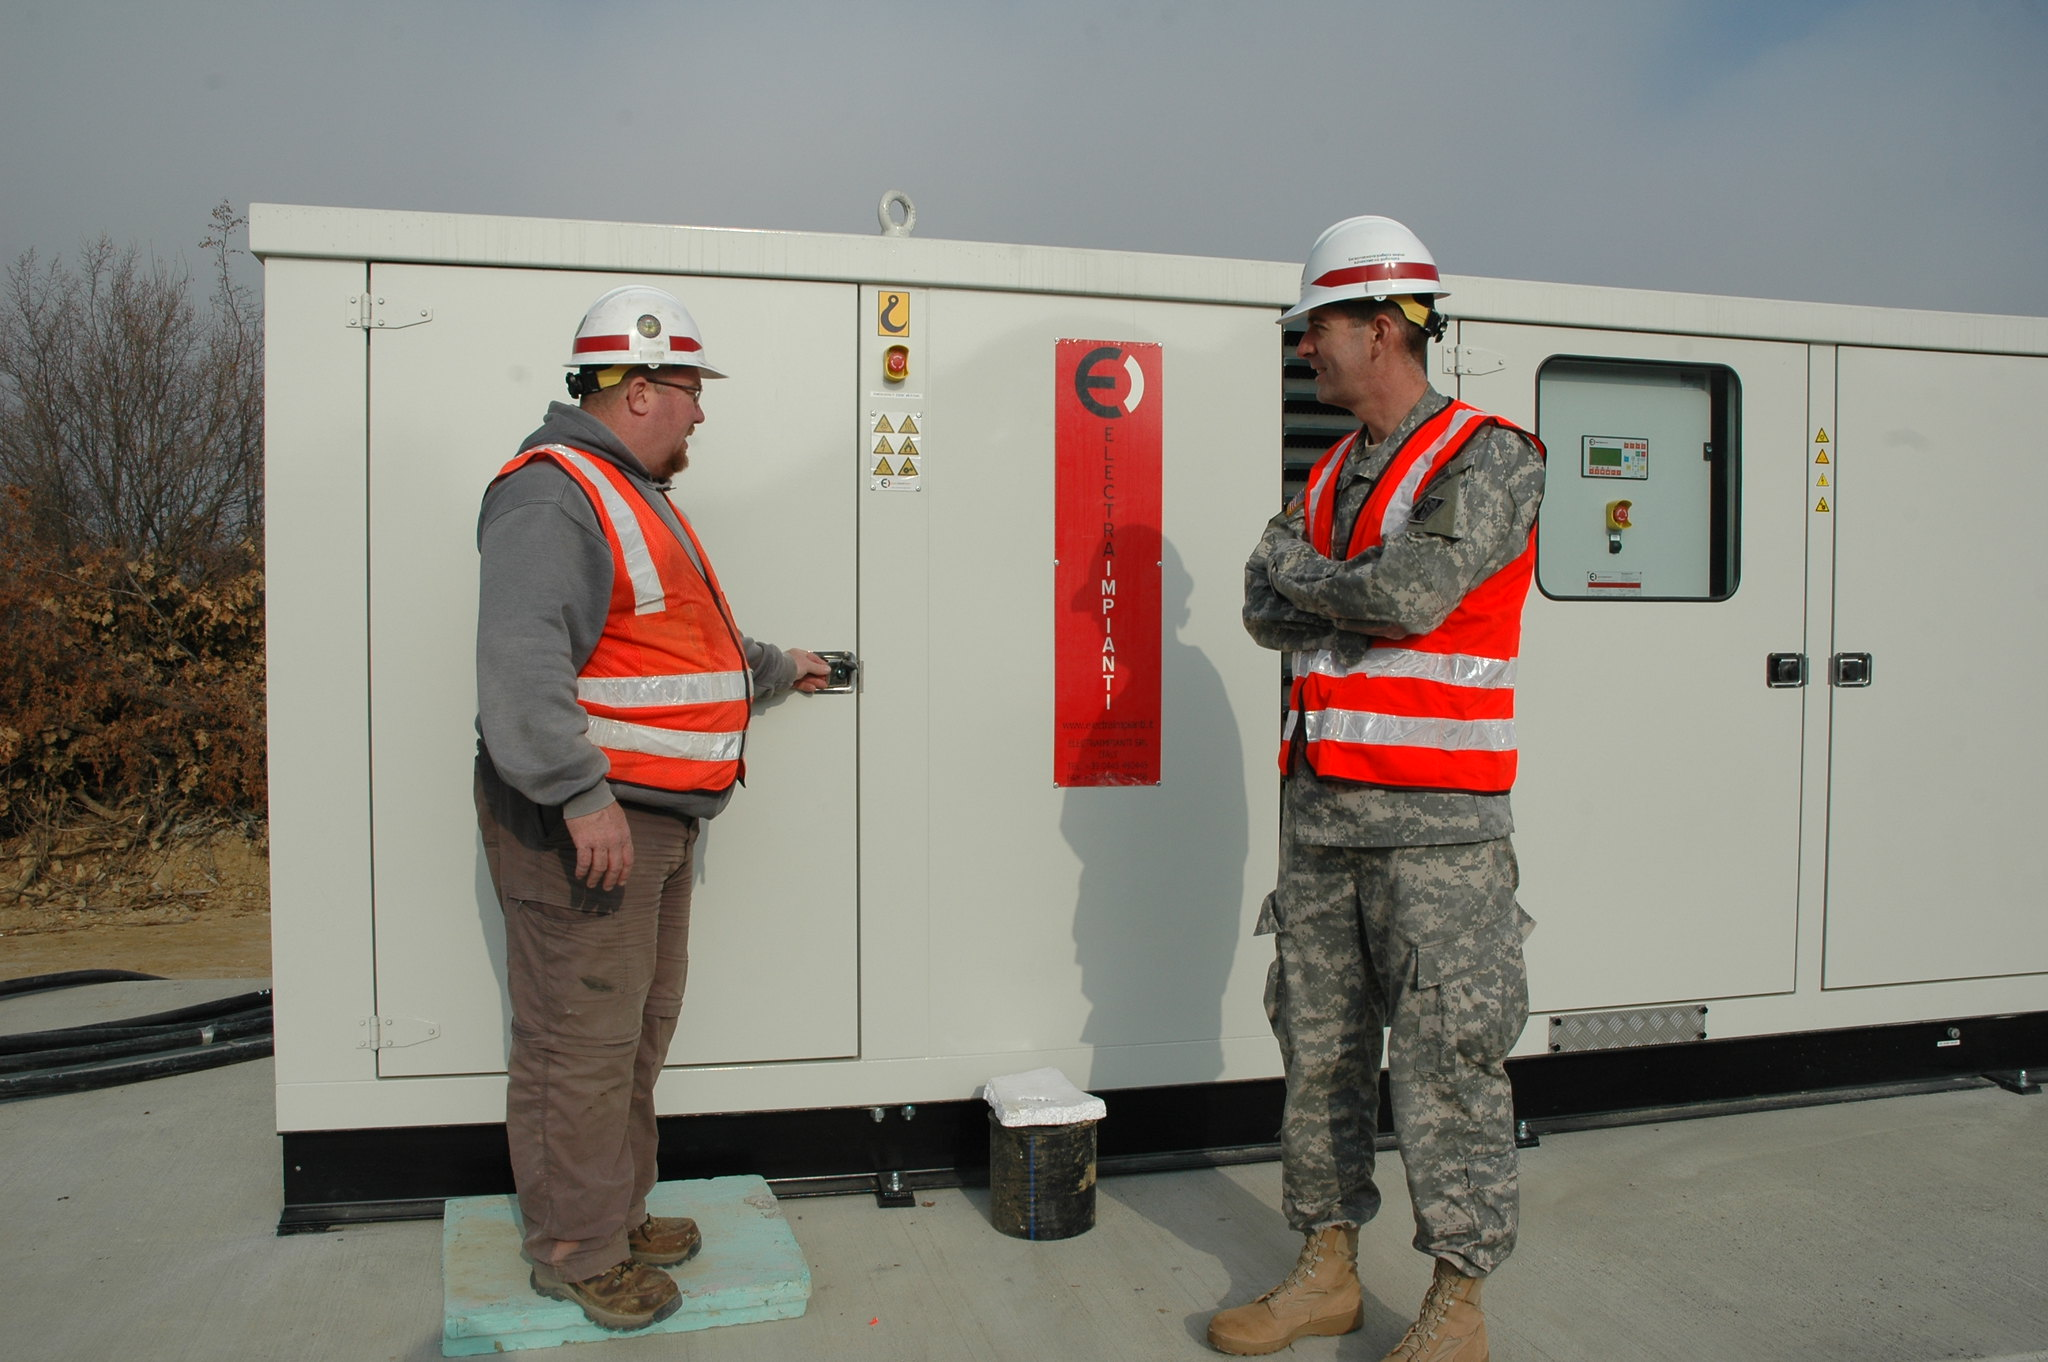Helmet: (1238, 208, 1462, 485), (548, 271, 757, 518)
Reflective vest: (469, 426, 757, 822), (1285, 398, 1538, 801)
